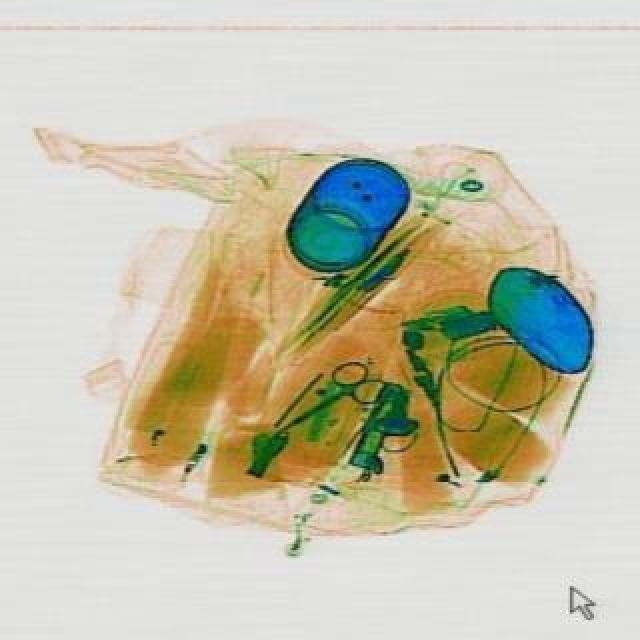pliers: (252, 350, 388, 456)
